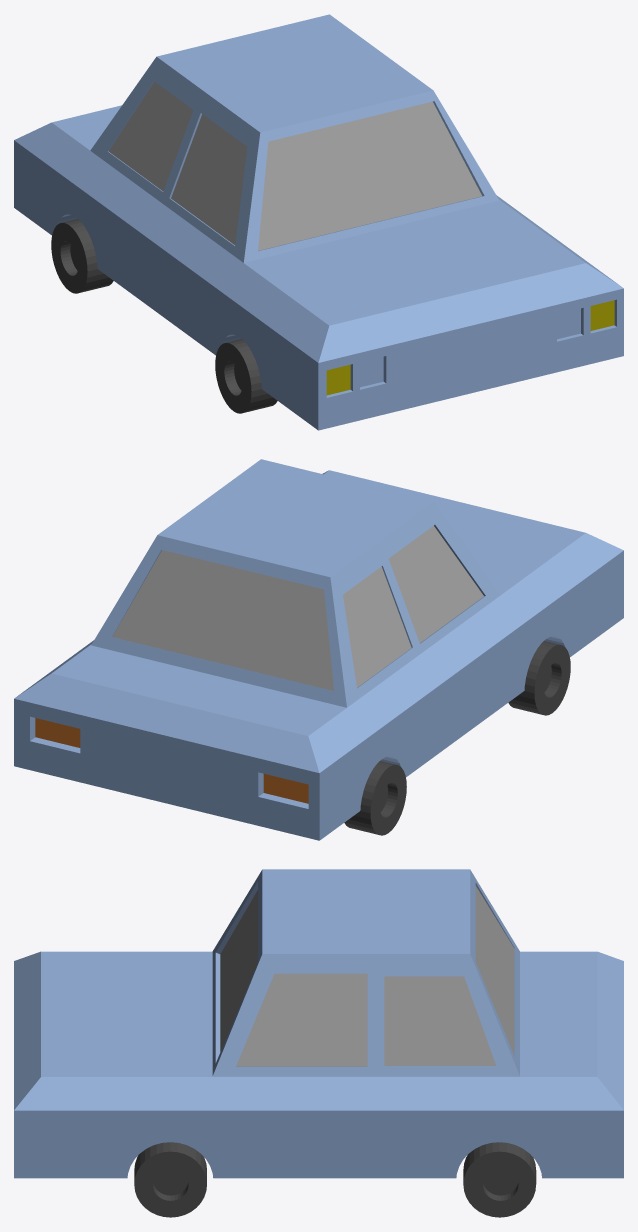
File: car1.fbx
The picture shows the model from 3 angles, top to bottom: view 1: azimuth 30°, elevation 25°; view 2: azimuth 150°, elevation 25°; view 3: azimuth 270°, elevation 25°; orthographic projection.
Visible parts, largest first — view 1: Cube, Cylinder.001; view 2: Cube, Cylinder.001; view 3: Cube, Cylinder.001.
Part boxes in pixels (box(x1,y1,x2,y2)): Cube: box(14, 14, 623, 430); Cylinder.001: box(51, 219, 277, 413); Cube: box(14, 459, 623, 840); Cylinder.001: box(344, 641, 570, 835); Cube: box(14, 869, 623, 1178); Cylinder.001: box(134, 1142, 536, 1217).
Size of the model in its own units: 297 by 203 by 492.
